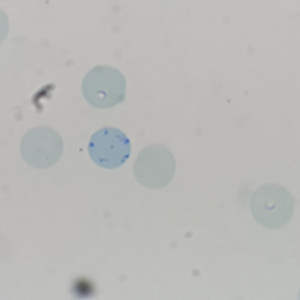aggregate reticulocyte: (86, 125, 133, 171)
erythrocyte: (130, 141, 178, 191), (247, 181, 295, 231), (79, 64, 128, 112), (18, 125, 65, 171)
